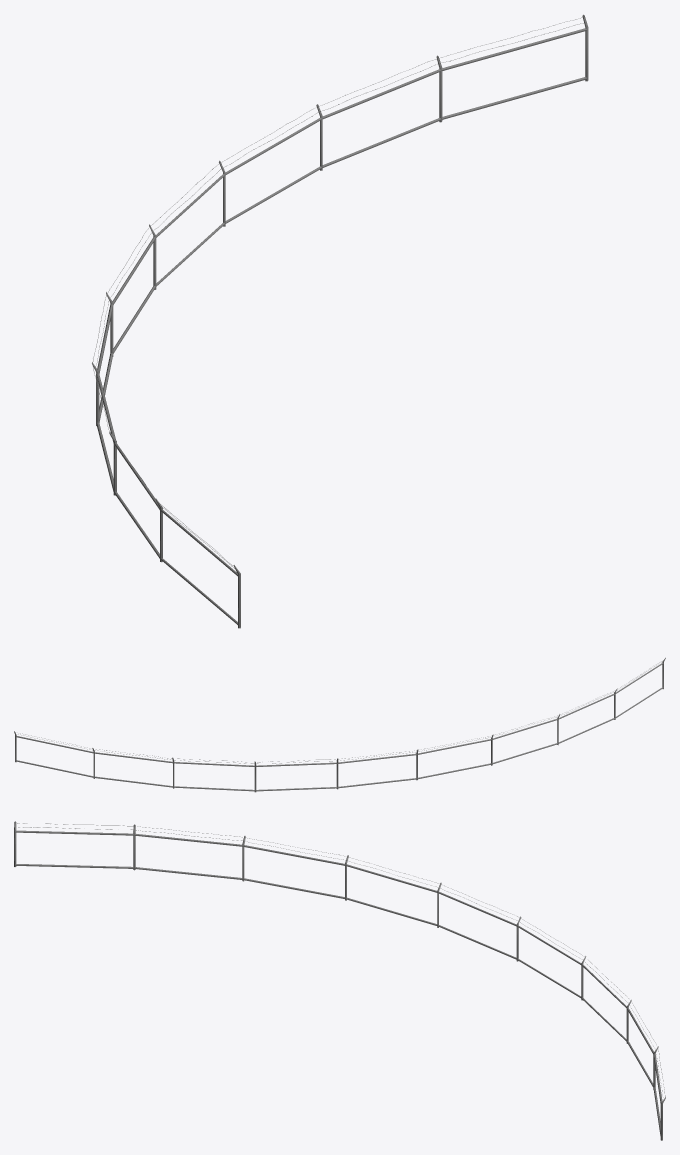
File: SW_ENV_WalledBend_WireFence_OuterArc.fbx
The picture shows the model from 3 angles, top to bottom: view 1: azimuth 30°, elevation 25°; view 2: azimuth 150°, elevation 25°; view 3: azimuth 270°, elevation 25°; orthographic projection. The views are drawn at different scales.
Parts seen in each view (by area): view 1: SW_ENV_WalledBend_WireFence_OuterArc; view 2: SW_ENV_WalledBend_WireFence_OuterArc; view 3: SW_ENV_WalledBend_WireFence_OuterArc.
Part boxes in pixels (x1,y1,x2,y2): SW_ENV_WalledBend_WireFence_OuterArc: (92,14,588,628); SW_ENV_WalledBend_WireFence_OuterArc: (14,657,665,792); SW_ENV_WalledBend_WireFence_OuterArc: (14,821,665,1140).
Size of the model in its own units: 32.23 by 2.39 by 32.21.
